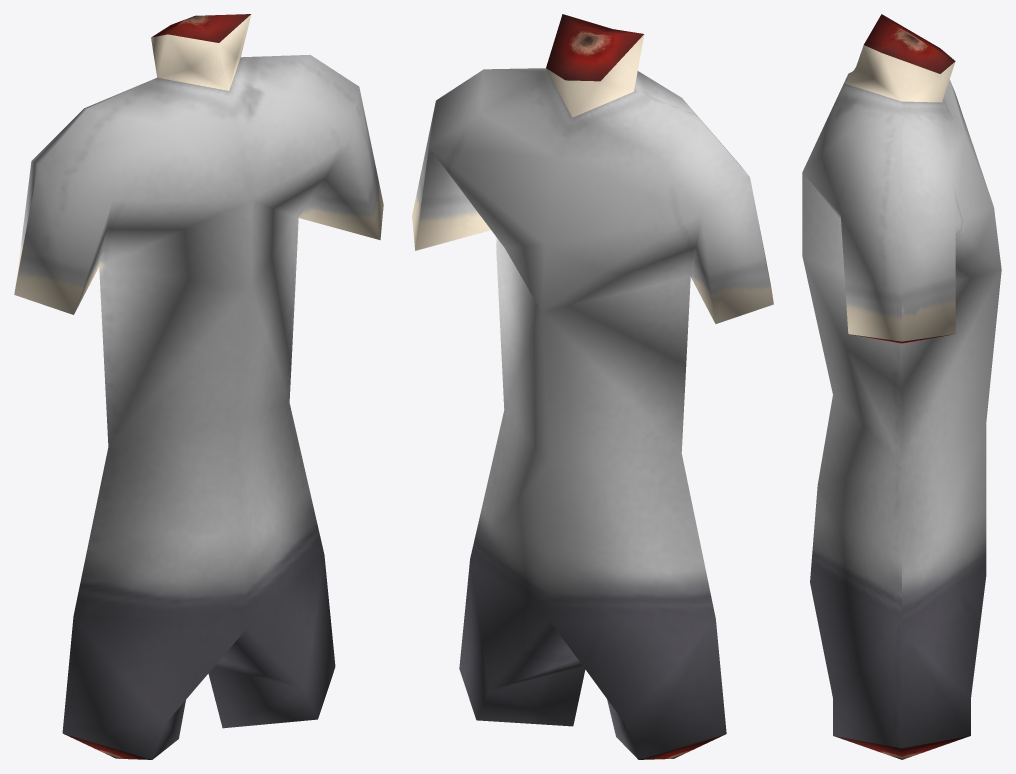
The model's file is HumanoidTorso.fbx.
3 renders of one model, left to right at view 1: azimuth 30°, elevation 25°; view 2: azimuth 150°, elevation 25°; view 3: azimuth 270°, elevation 25°, orthographic. The views are drawn at different scales.
Visible parts, largest first — view 1: Torso; view 2: Torso; view 3: Torso.
Boxes of the visible parts, box(x1,y1,x2,y2) form: Torso: box(14, 14, 383, 759); Torso: box(412, 14, 773, 759); Torso: box(802, 14, 1001, 759).
Bounding box in the file's own units: 53 × 99 × 26.
